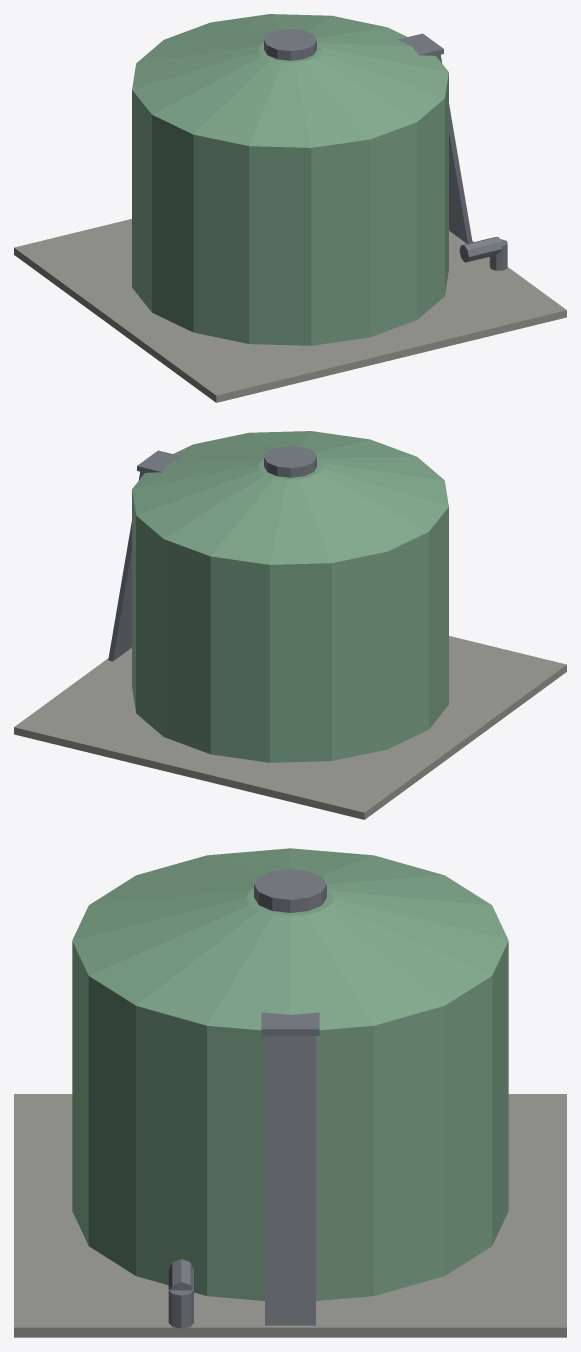
Rendered from mashup-tank1-mid-prebuilt.fbx.
3 views of the same model, one above another, from view 1: azimuth 30°, elevation 25°; view 2: azimuth 150°, elevation 25°; view 3: azimuth 270°, elevation 25° (orthographic). The views are drawn at different scales.
Parts seen in each view (by area): view 1: ChemPlant_Tank; view 2: ChemPlant_Tank; view 3: ChemPlant_Tank.
Boxes of the visible parts, x1=… form: ChemPlant_Tank: x1=14, y1=14, x2=566, y2=402; ChemPlant_Tank: x1=14, y1=431, x2=566, y2=819; ChemPlant_Tank: x1=14, y1=848, x2=566, y2=1337.
Bounding box in the file's own units: 15.25 × 10.2 × 15.2.
